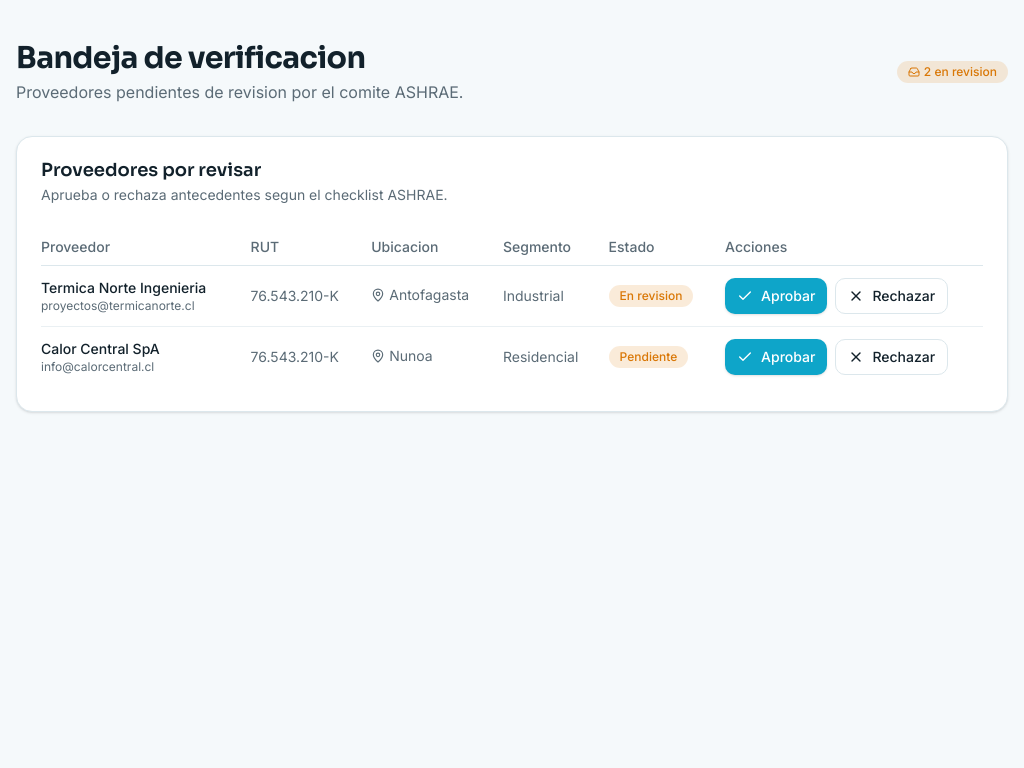
Test case: AdminVerificationTable › rechazar exige un motivo valido y luego resuelve el proveedor
Click the button "Rechazar" in the row of "Termica Norte Ingenieria" at (892, 296), box [835,278,948,314]
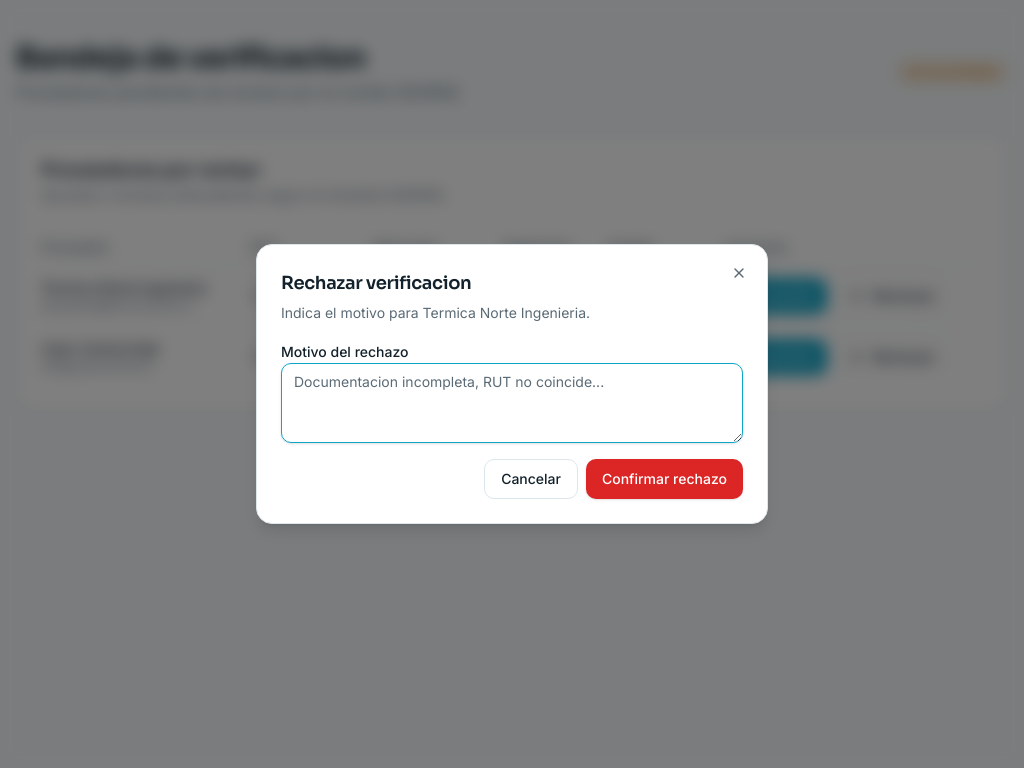
Check: the heading "Rechazar verificacion" is shown, box [281,272,471,294]
Click the button "Confirmar rechazo" at (664, 479), box [586,459,743,499]
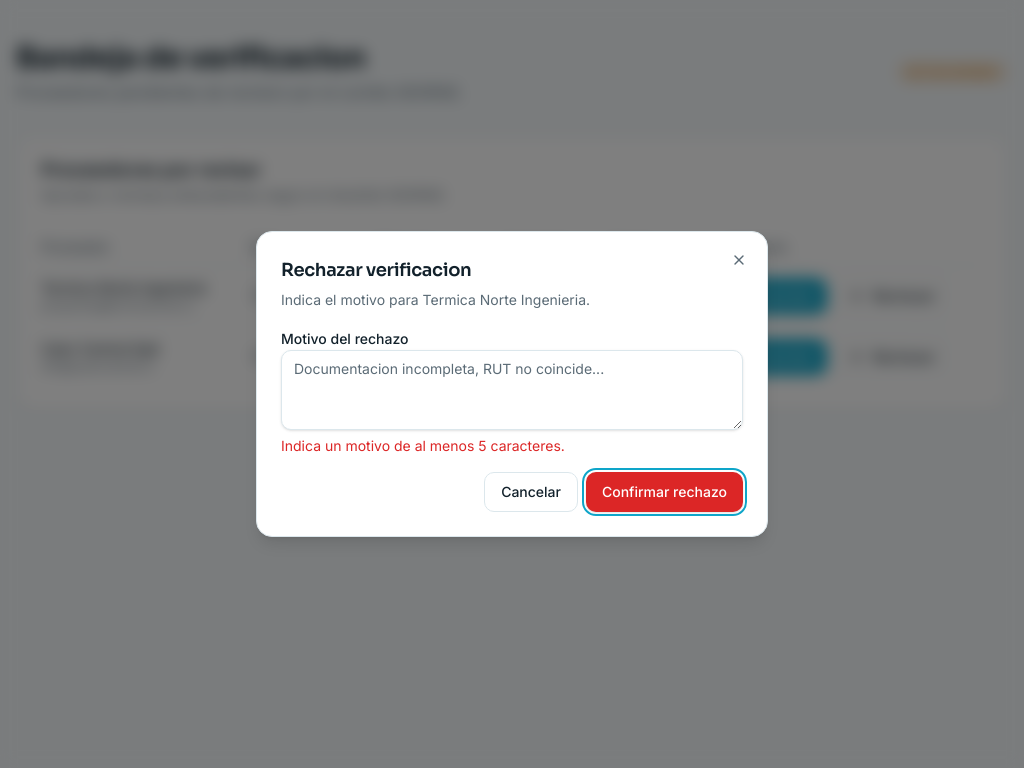
Check: the text "Indica un motivo de al menos 5 caracteres." is shown, box [281,437,565,454]
Type "Documentacion incompleta" into the text box labelled "Motivo del rechazo" at (512, 390), box [281,350,743,430]
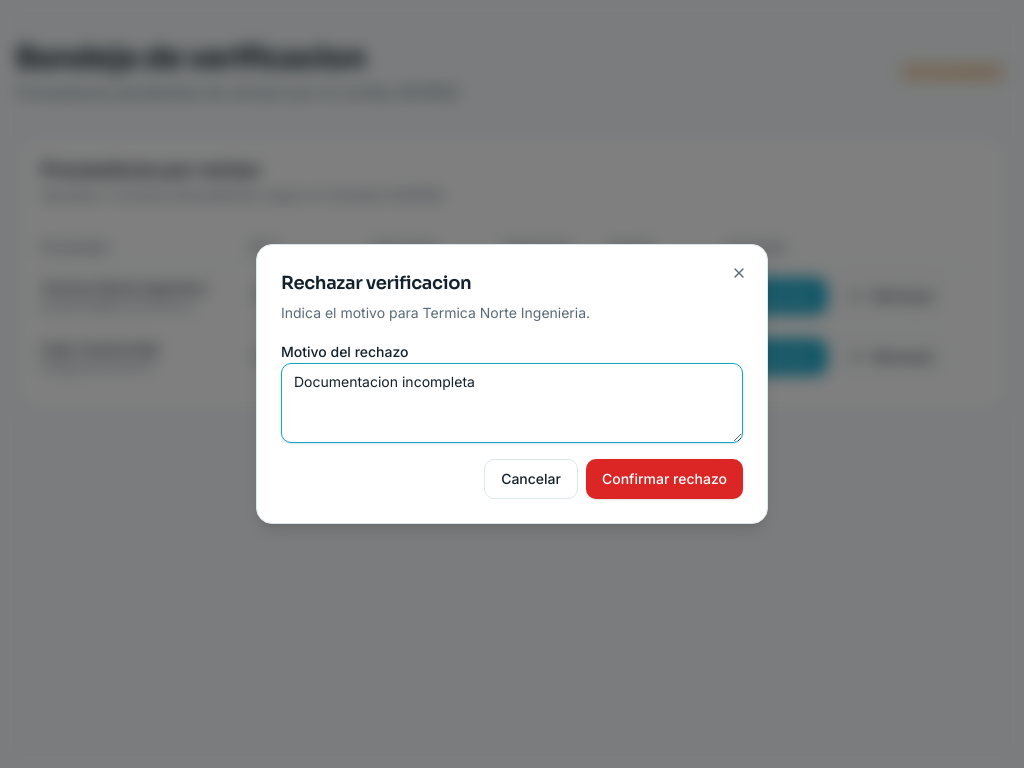
Click the button "Confirmar rechazo" at (664, 479), box [586,459,743,499]
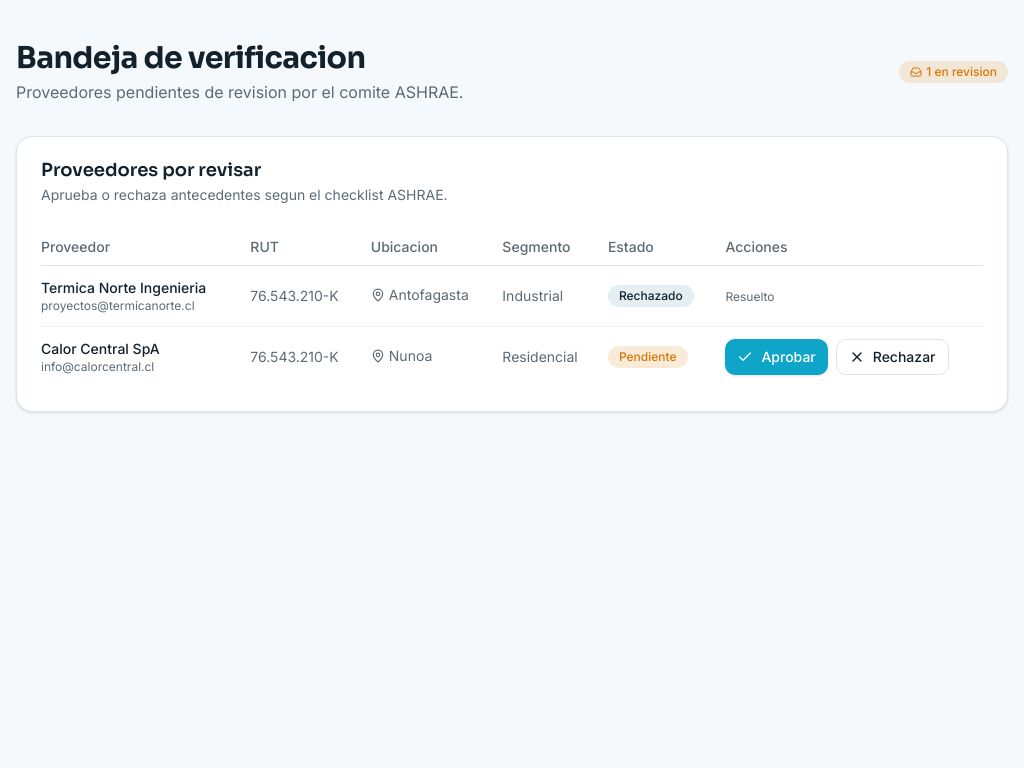
Check: the dialog is gone
Check: the number of buttons "Rechazar" is 1, box [836,339,949,375]
Check: the text "Resuelto" is shown, box [725,289,774,304]
